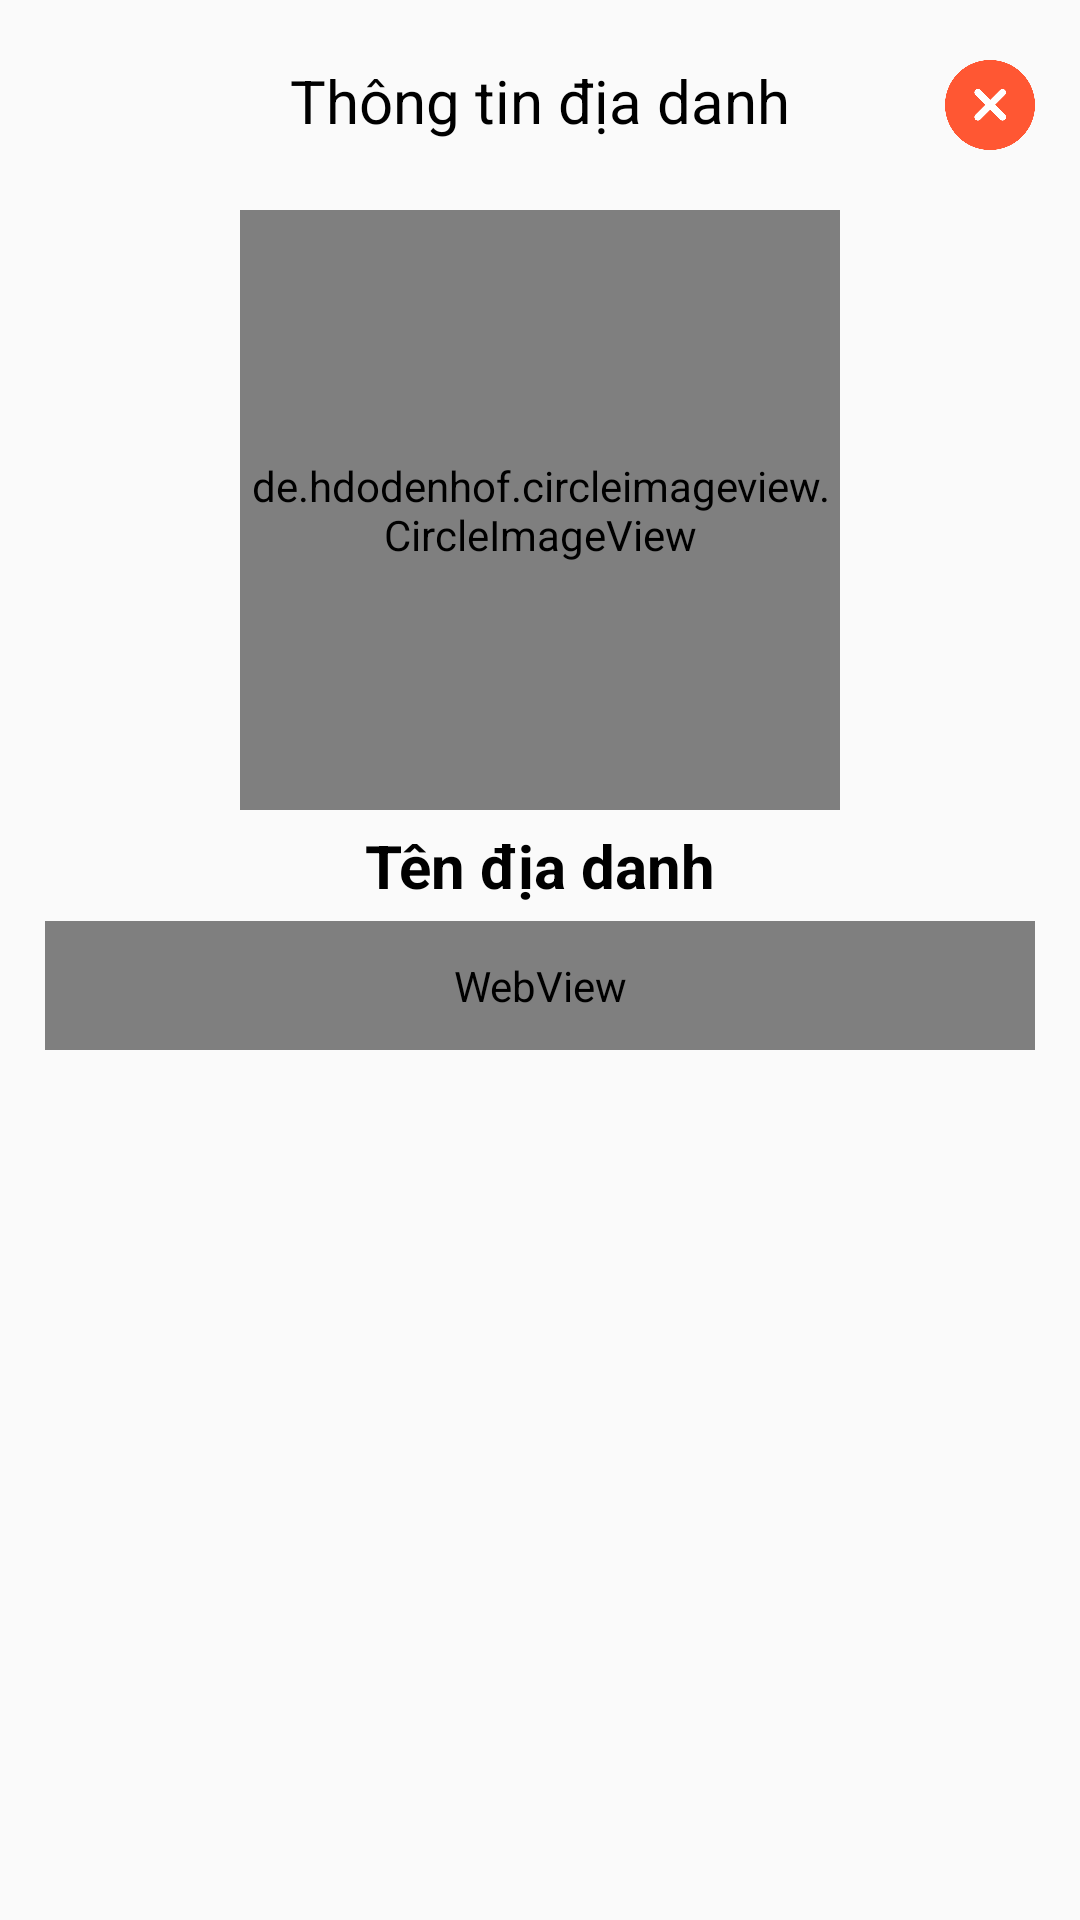

Icon bounding boxes for this 1080*1920 phone screenshot, format (x1, y1, x2, y2):
cancel: (945, 60, 1035, 150)
